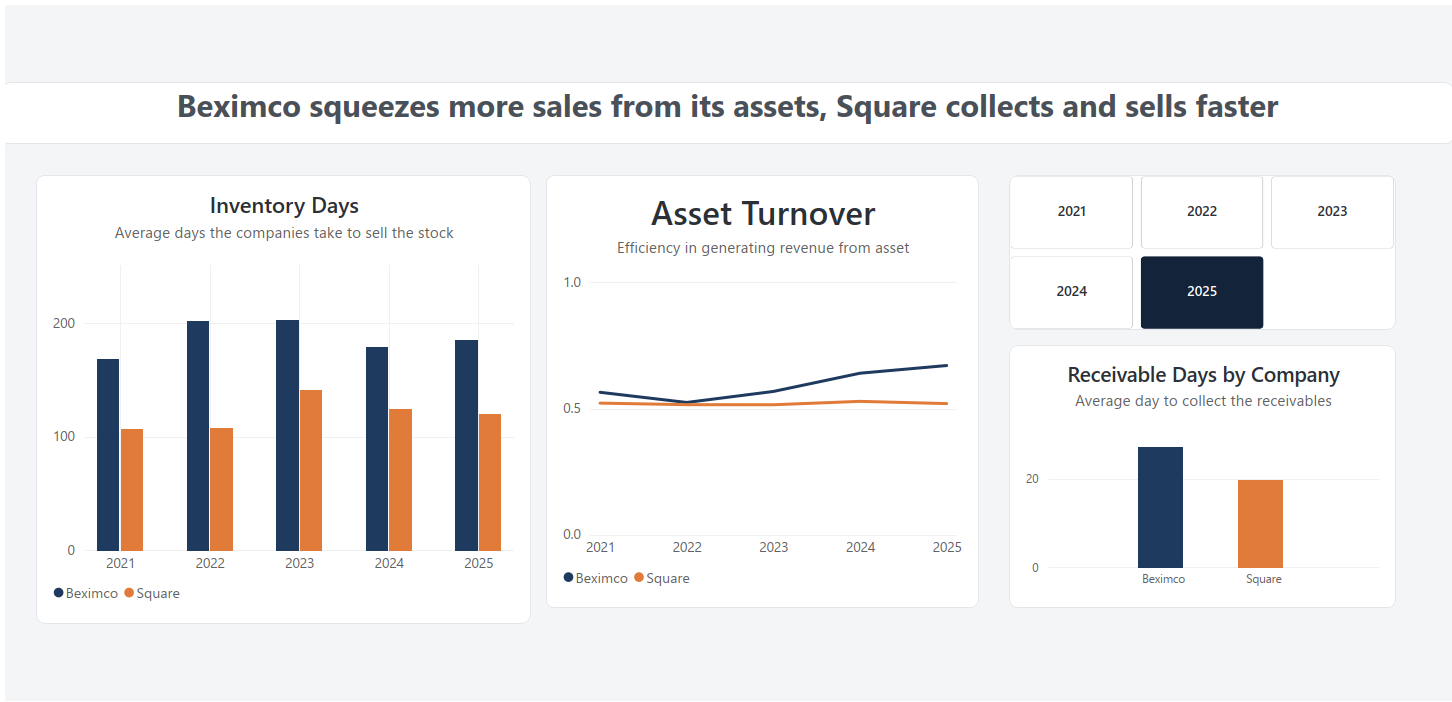

This screenshot's page, from the dashboard's own definition file:
{"tool":"powerbi","page":{"name":"Efficiency","canvas":[1500,720],"ordinal":3},"visuals":[{"type":"clusteredColumnChart","title":"Inventory Days","fields":{"Category":["Data.Year"],"Series":["Data.Company"],"Y":["Measure.Inventory Days"]},"box":[32,176,512,464],"z":0},{"type":"clusteredColumnChart","fields":{"Category":["Data.Company"],"Y":["Measure.Receivable Days"]},"box":[1040,352,400,272],"z":1000},{"type":"lineChart","title":"Asset Turnover","fields":{"Category":["Data.Year"],"Series":["Data.Company"],"Y":["Measure.Asset Turnover"]},"box":[560,176,448,448],"z":2000},{"type":"textbox","box":[-4,80,1504,64],"z":3000},{"type":"advancedSlicerVisual","fields":{"Values":["Data.Year"]},"box":[1040,176,400,160],"z":4000}]}

Visuals, with their boxes in screenshot pixels (x1, y1, x2, y2), scaled from the page's 1500x720 canvas onto the 1452x702 screenshot:
"Inventory Days" clusteredColumnChart: 31, 172, 527, 624
clusteredColumnChart - Data.Company x Measure.Receivable Days: 1007, 343, 1394, 608
"Asset Turnover" lineChart: 542, 172, 976, 608
textbox: 0, 78, 1451, 140
advancedSlicerVisual - Data.Year: 1007, 172, 1394, 328
